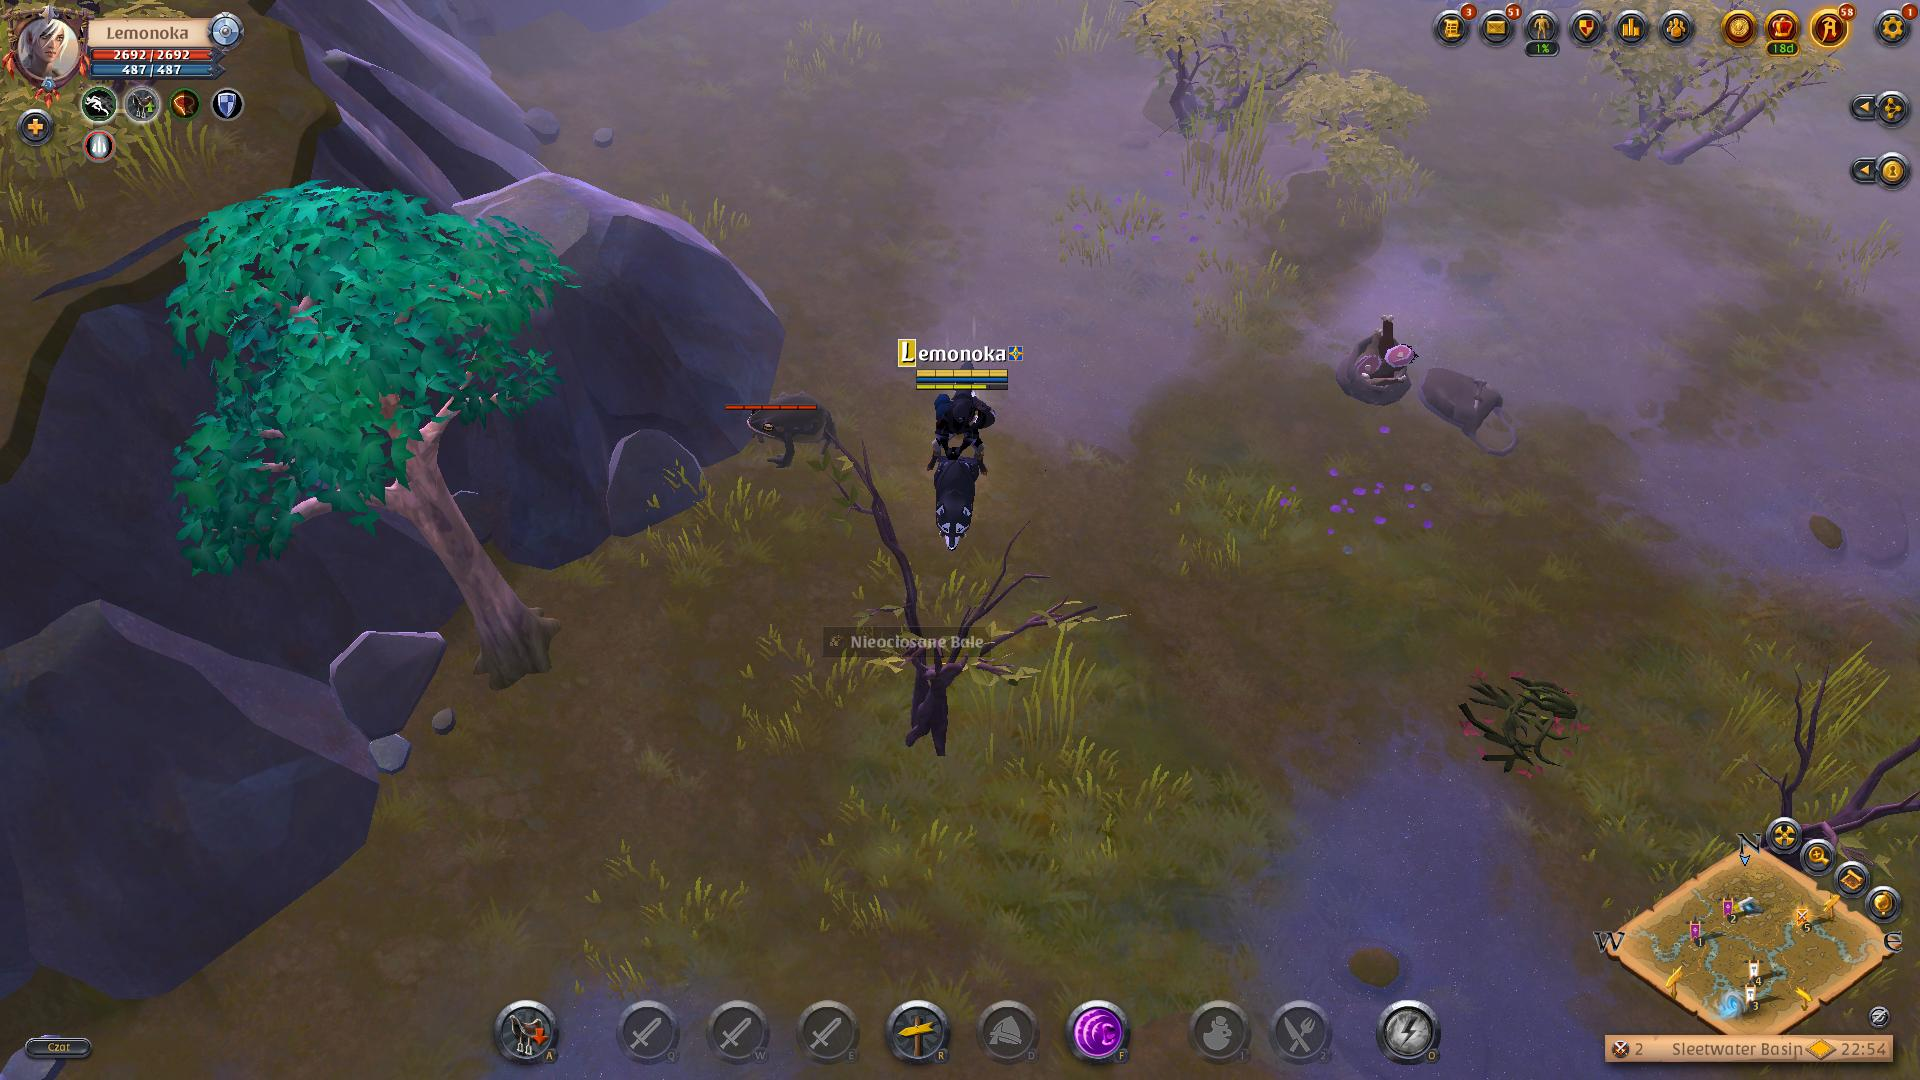wood tier 3: (164, 187, 572, 585)
